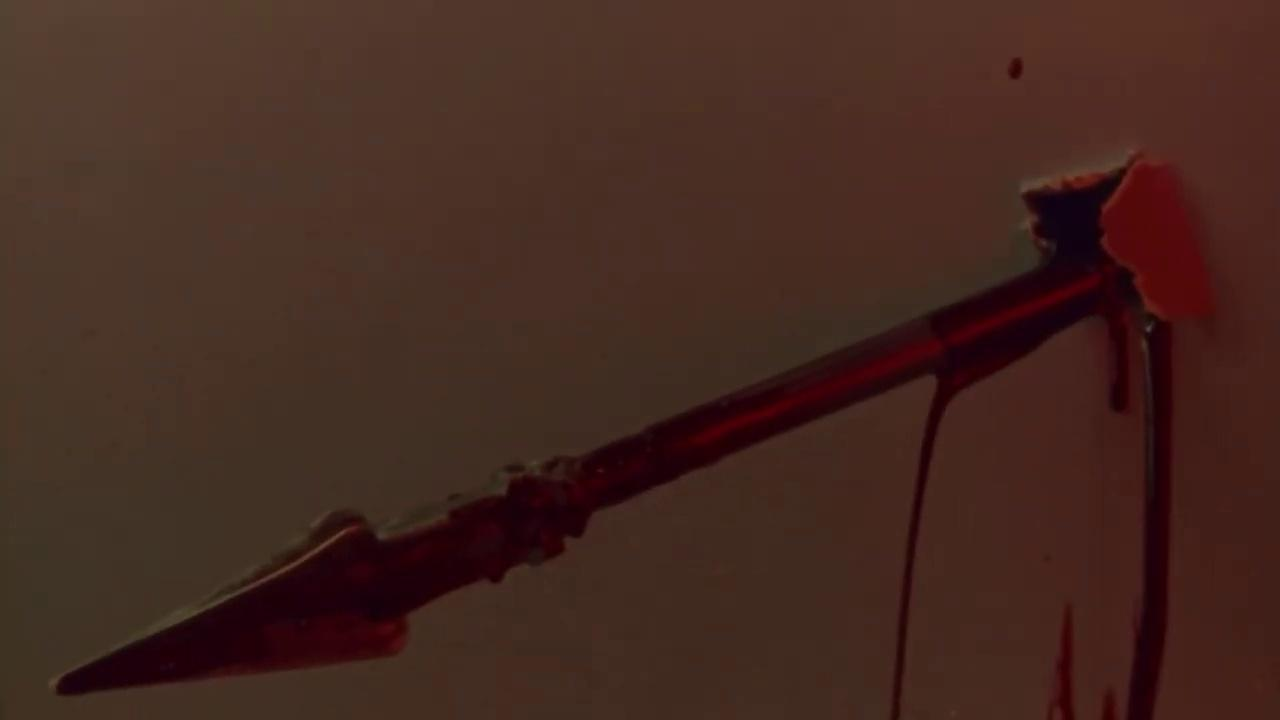Fire: (50, 152, 1215, 720), (1002, 56, 1031, 82)
